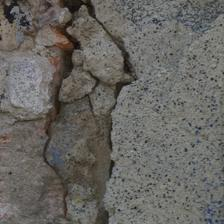Crack: (0, 0, 110, 181), (83, 93, 139, 131), (51, 47, 89, 91)
